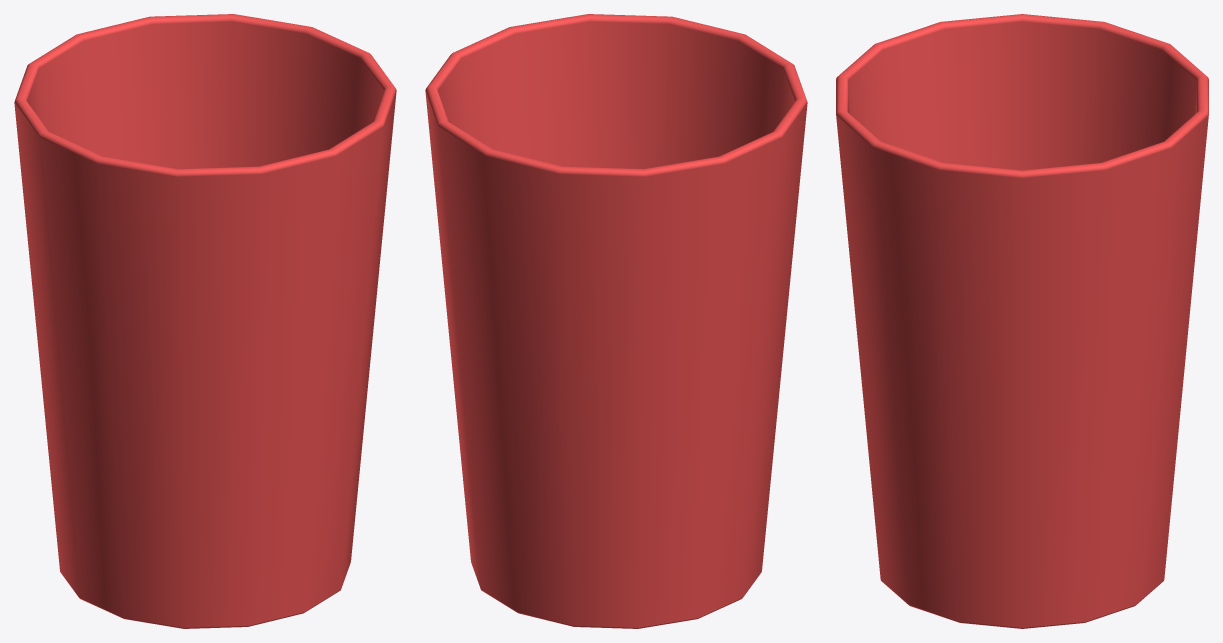
The model's file is PR_cup1.fbx.
The picture shows the model from 3 angles, left to right: view 1: azimuth 30°, elevation 25°; view 2: azimuth 150°, elevation 25°; view 3: azimuth 270°, elevation 25°; orthographic projection.
Visible parts, largest first — view 1: cup1; view 2: cup1; view 3: cup1.
Part boxes in pixels (x1,y1,x2,y2): cup1: (14, 14, 396, 628); cup1: (425, 14, 807, 628); cup1: (836, 14, 1208, 628).
Bounding box in the file's own units: 1500 × 2057 × 1463.
Materials: 1 (1 with a texture image).
